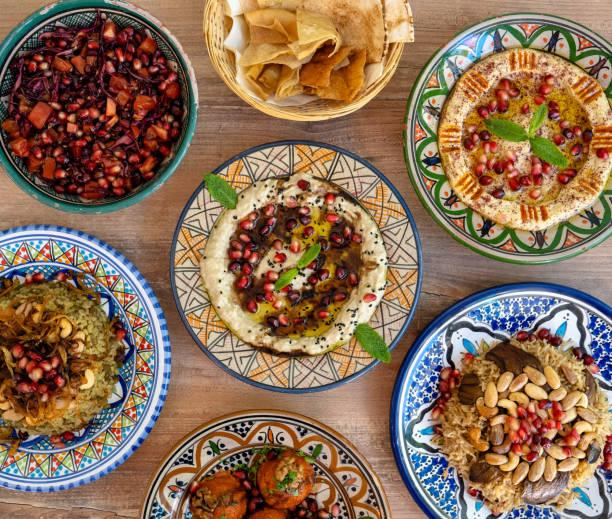Braised Crucian Carp: (169, 139, 421, 392), (390, 278, 612, 519), (403, 11, 612, 264), (1, 226, 171, 491), (2, 1, 198, 214), (201, 0, 411, 124), (141, 417, 393, 519)
